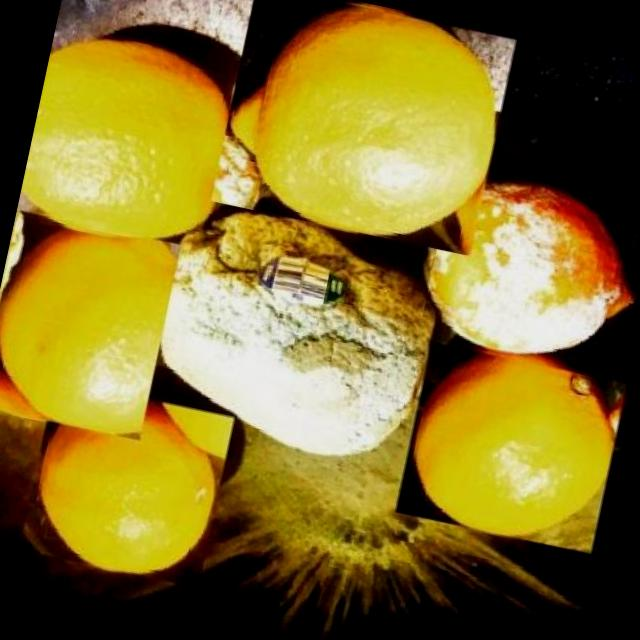Orange: (211, 0, 516, 256), (20, 31, 247, 259), (395, 341, 627, 553), (398, 173, 640, 372), (19, 380, 234, 588), (0, 210, 181, 441)
